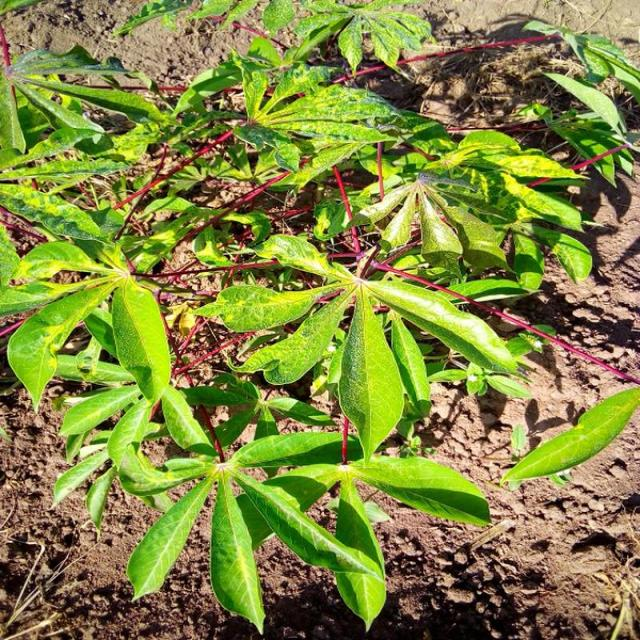cassava leaf: (2, 3, 638, 635), (500, 384, 640, 491), (338, 285, 406, 463), (112, 276, 172, 406)
